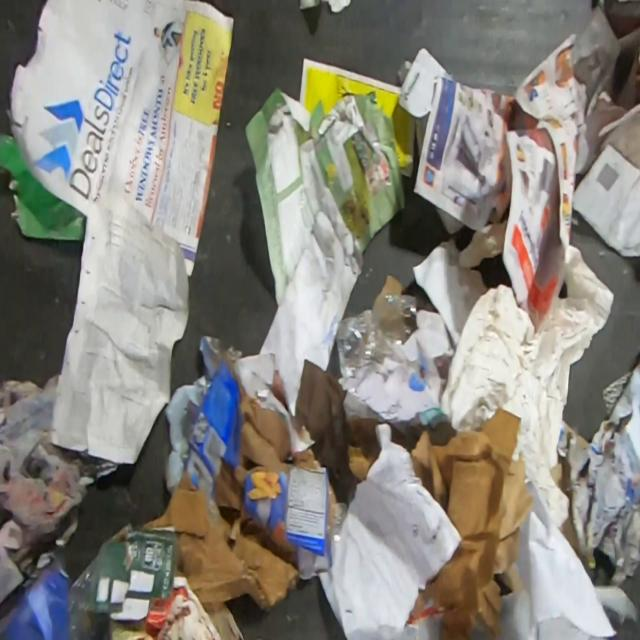cardboard: (134, 333, 339, 613), (404, 407, 534, 640), (549, 451, 582, 558), (372, 273, 406, 307)
soft_plastic: (334, 292, 418, 384), (328, 500, 348, 566)
